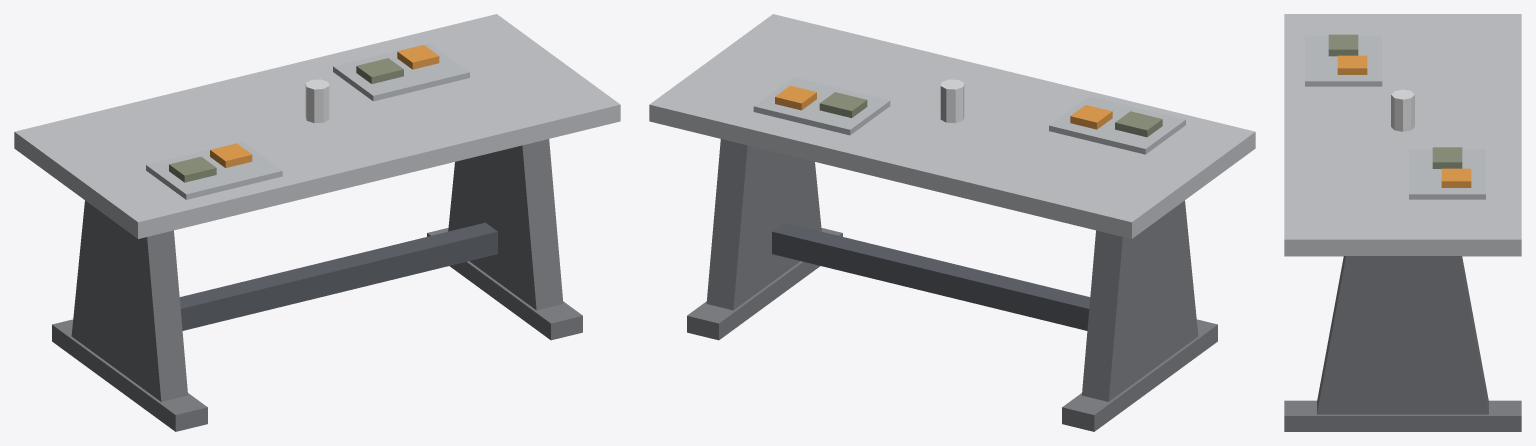
Rendered from SM_Mess_Table.glb.
3 views of the same model, side by side, from view 1: azimuth 30°, elevation 25°; view 2: azimuth 150°, elevation 25°; view 3: azimuth 270°, elevation 25° (orthographic). The views are drawn at different scales.
Parts seen in each view (by area): view 1: SM_Mess_Table; view 2: SM_Mess_Table; view 3: SM_Mess_Table.
Part boxes in pixels (x1=…): SM_Mess_Table: x1=14, y1=14, x2=620, y2=431; SM_Mess_Table: x1=649, y1=14, x2=1255, y2=431; SM_Mess_Table: x1=1284, y1=14, x2=1521, y2=431.
Bounding box in the file's own units: 1.8 × 0.9 × 0.8.
